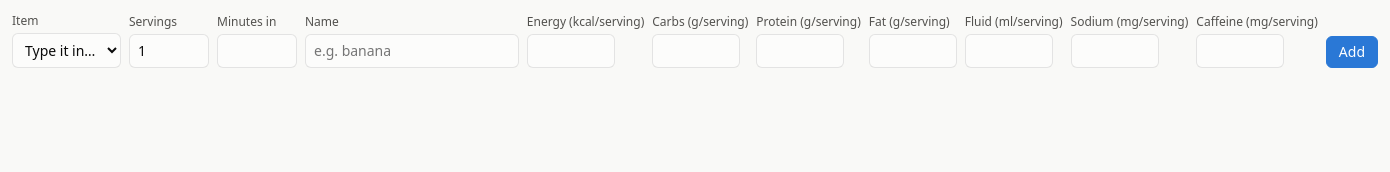
it: logging a workout's fueling › links a typed-in item to the workout, per serving, with the time into it
Type "Rice cake" into the field labelled "Name" at {"x": 412, "y": 51}, box [305, 34, 519, 68]
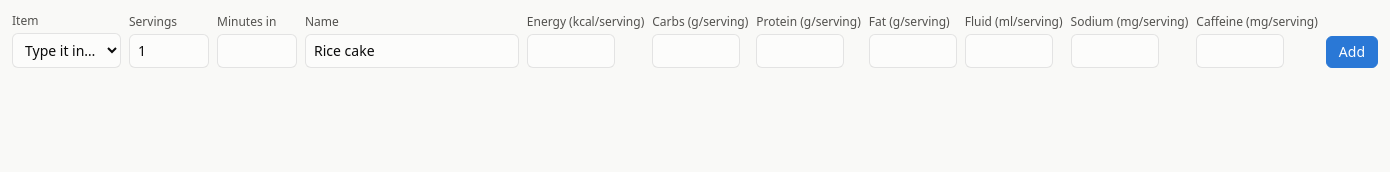
Type "18" into the number field labelled "Carbs (g/serving)" at {"x": 696, "y": 51}, box [652, 34, 740, 68]
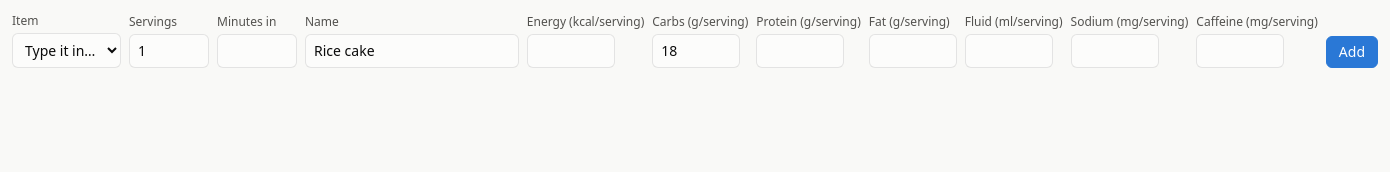
Type "75" into the number field labelled "Sodium (mg/serving)" at {"x": 1114, "y": 51}, box [1070, 34, 1158, 68]
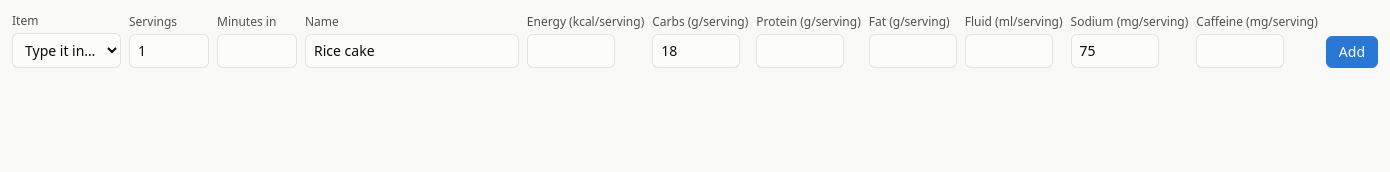
Replace the text in the number field labelled "Servings" with "2" at {"x": 169, "y": 51}, box [129, 34, 209, 68]
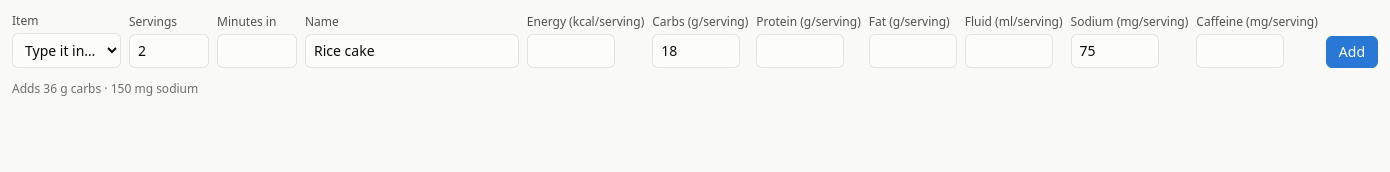
Type "1.1" into the number field labelled "Minutes in" at {"x": 257, "y": 51}, box [217, 34, 297, 68]
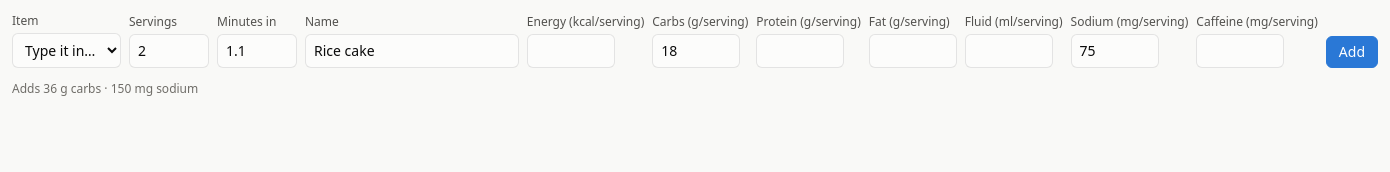
Now the text "Adds 36 g carbs · 150 mg sodium" is shown, box [12, 80, 198, 97]
Click the button "Add" at {"x": 1352, "y": 52}, box [1326, 36, 1378, 68]
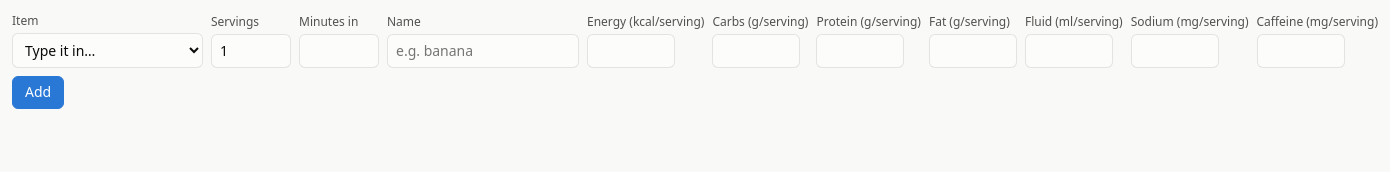
Now the field labelled "Name" is empty, box [387, 34, 579, 68]
Now the number field labelled "Minutes in" is not empty, box [299, 34, 379, 68]
